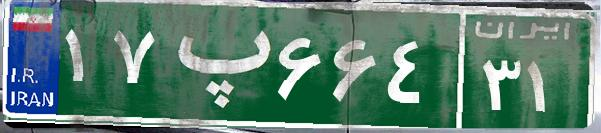1: (57, 26, 110, 107), (525, 38, 570, 115)
3: (475, 38, 525, 113)
4: (385, 28, 445, 110)
6: (273, 28, 330, 110), (330, 28, 385, 110)
7: (110, 28, 158, 105)
پ: (158, 15, 273, 115)
